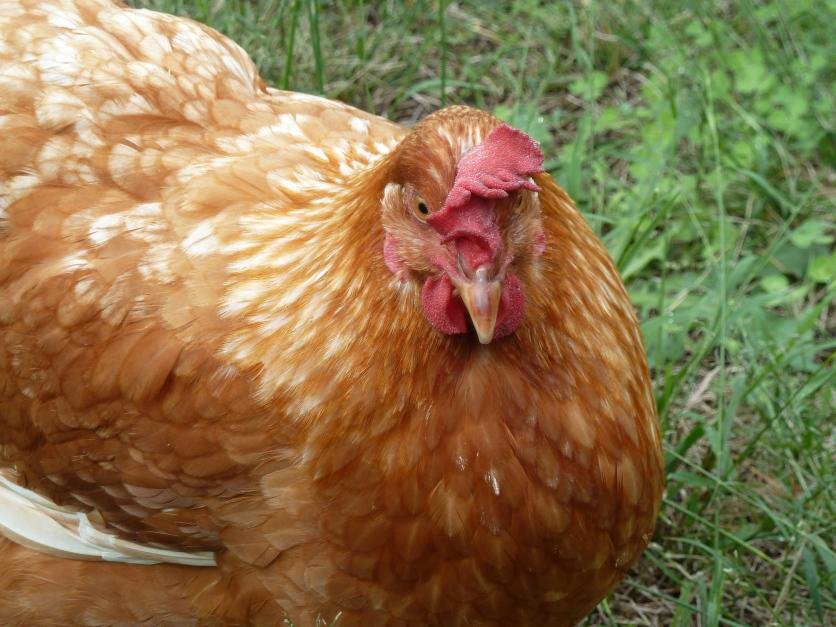AbNormal: (425, 128, 545, 274)
